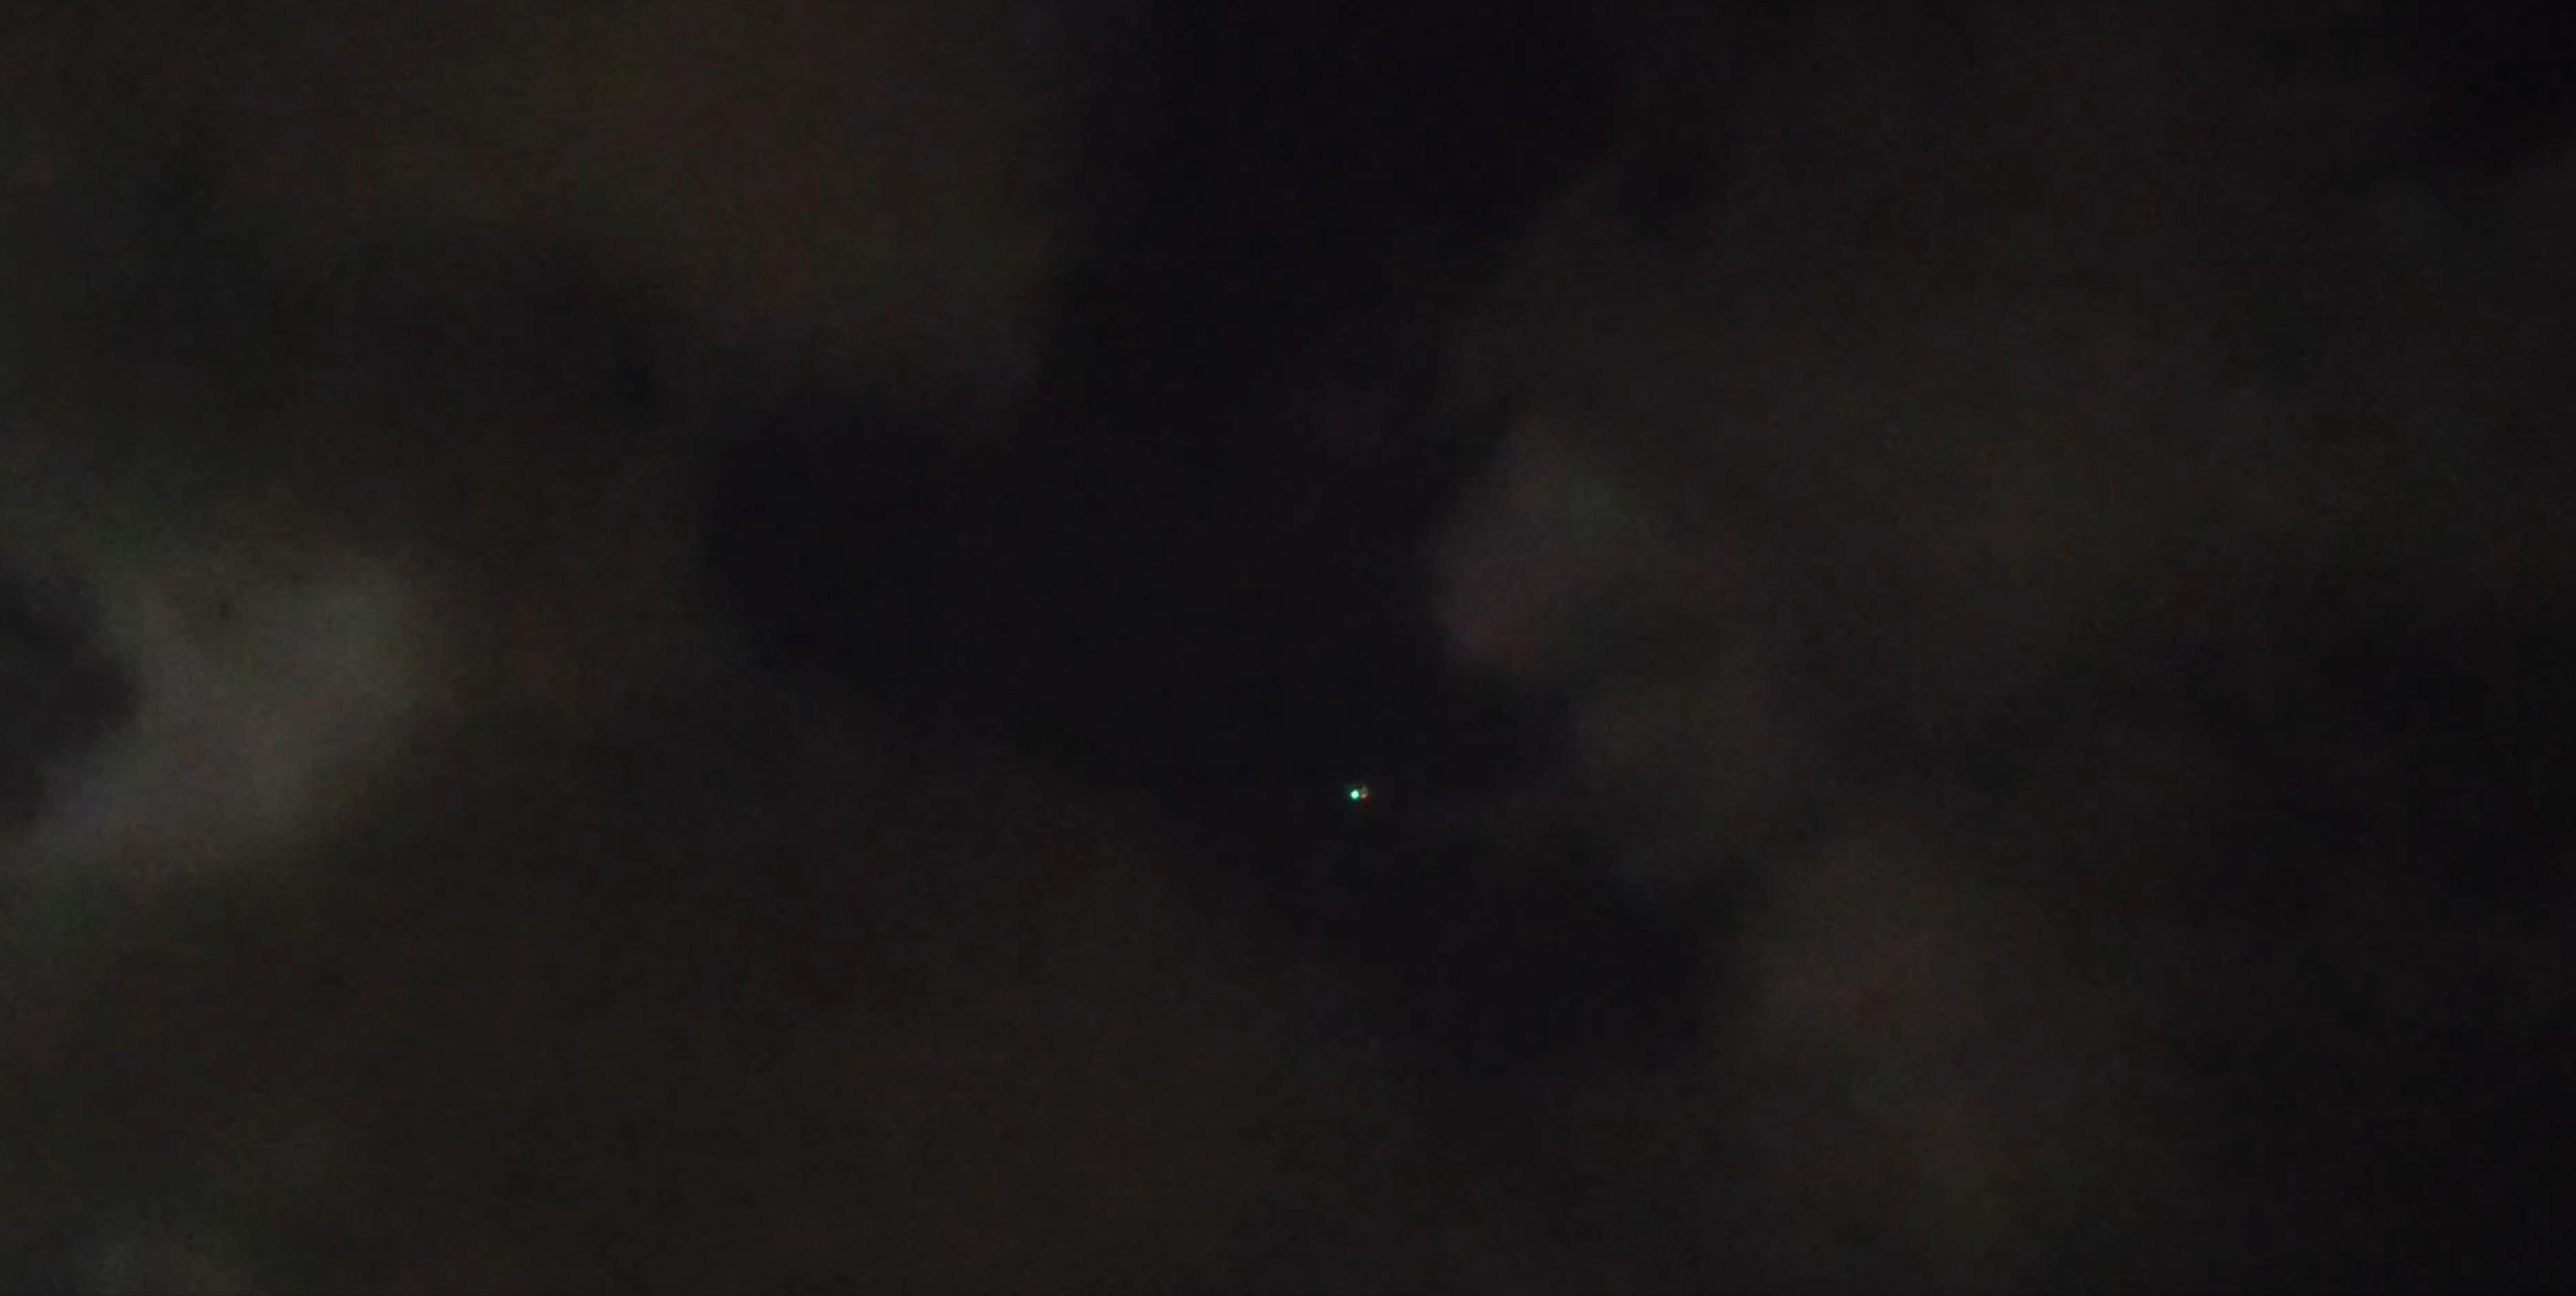Plane: (1338, 765, 1386, 818)
